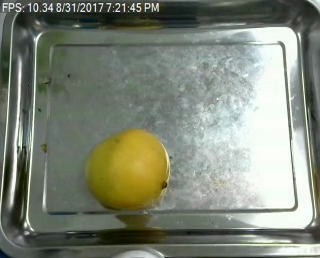Mango: (82, 129, 171, 210)
